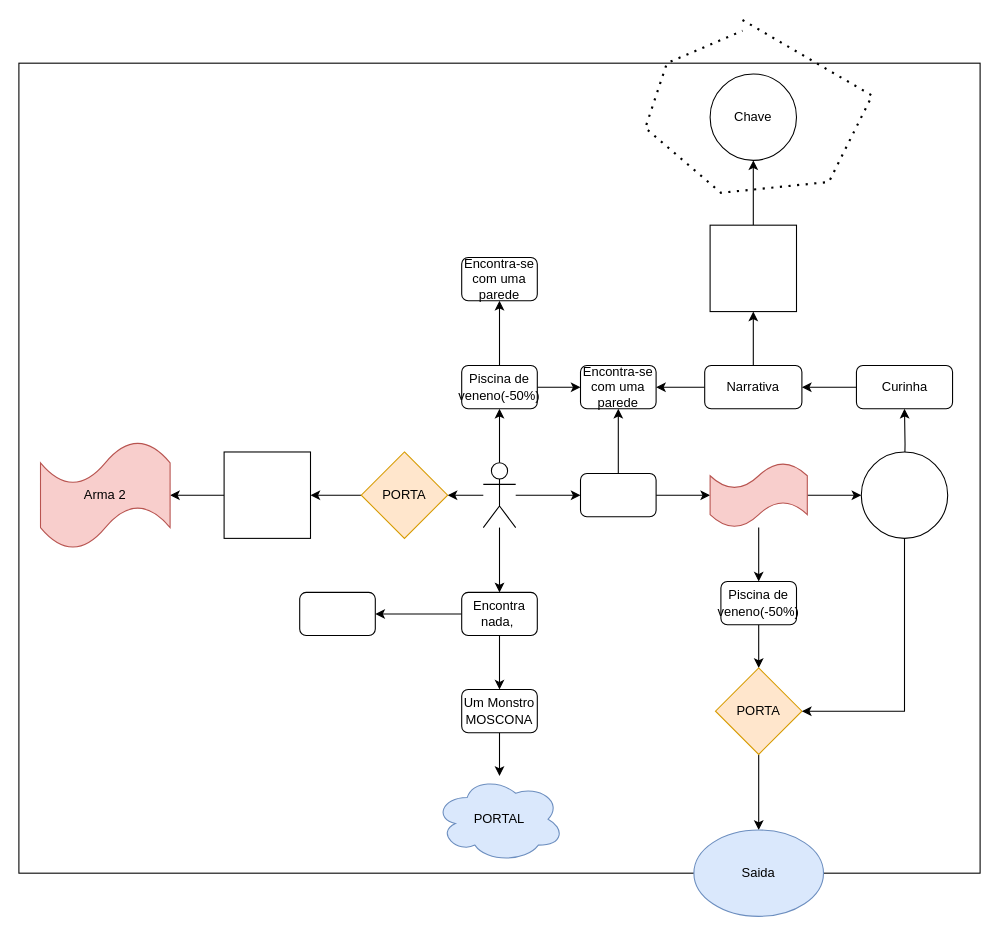
This 999x935 diagram has some shape labels left out. Here are the shapes that lost their labels. From the top down, the centre of each, then its label:
the point at 752,268: Encontrou um Creeper (BOSS)
the point at 266,494: Encontrou um Maicris (BOSS)
the point at 499,495: Actor
the point at 617,495: Encontra Nada
the point at 758,495: Arma 1
the point at 904,494: Capivara locona e ganha Chave 2
the point at 337,613: Encontrou o simbolo
